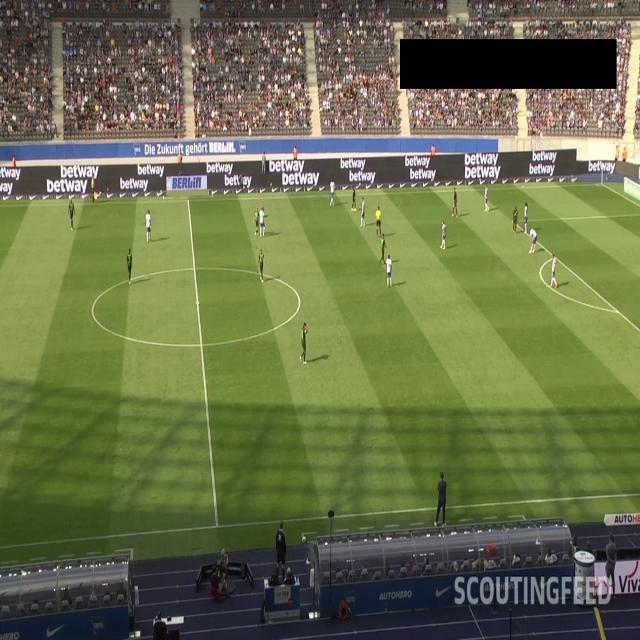player: (299, 320, 310, 368), (144, 210, 154, 243), (126, 248, 134, 288), (548, 251, 556, 286), (68, 198, 76, 231), (522, 200, 530, 233), (260, 206, 268, 237), (258, 249, 265, 284), (528, 228, 538, 252), (482, 184, 490, 212), (452, 186, 458, 220), (380, 233, 386, 266), (329, 179, 335, 210), (253, 208, 260, 234), (387, 253, 392, 287), (351, 185, 357, 212), (513, 205, 519, 232), (441, 218, 446, 247), (361, 199, 366, 224)
